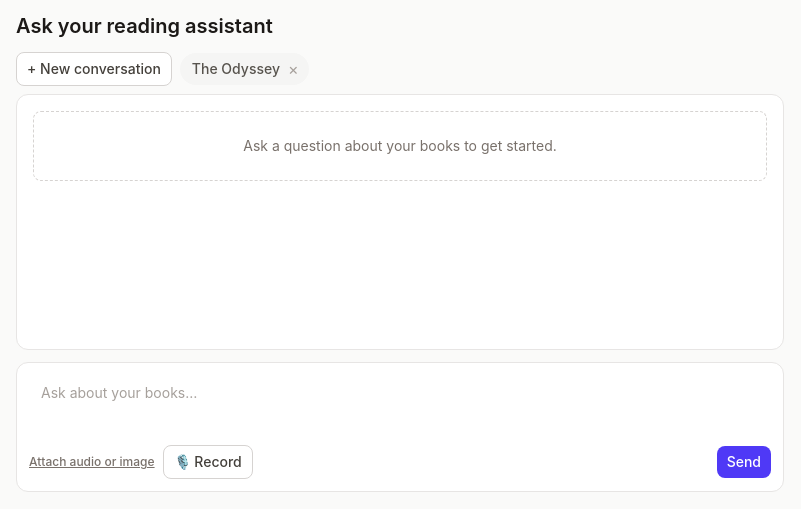
Scenario: Chat › loads a past conversation's transcript when selected
Step 1. Click the button "The Odyssey" → (236,69), box [192,59,280,79]
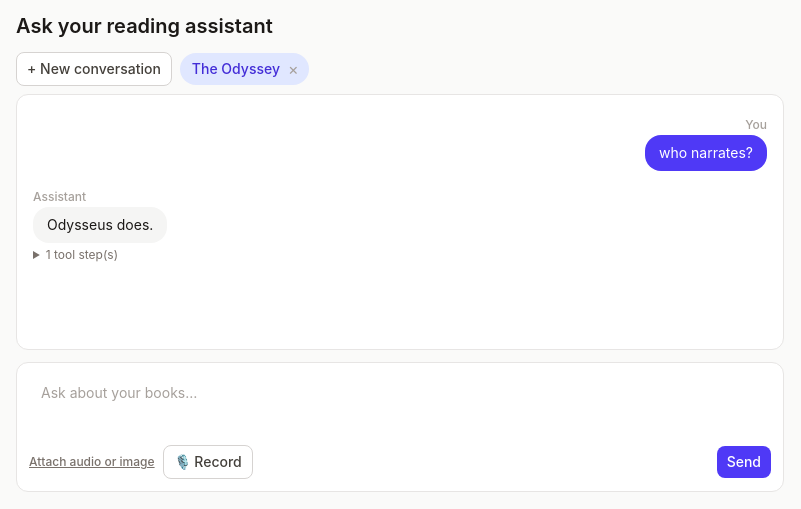
Now the text "Odysseus does." is shown, box [47,216,153,233]
Now the text "who narrates?" is shown, box [659,144,753,161]
